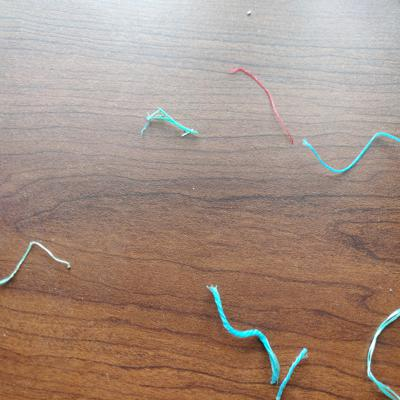thread: (205, 278, 280, 387), (224, 64, 297, 153), (301, 129, 400, 176), (1, 239, 74, 290), (137, 103, 207, 149), (367, 306, 400, 400), (274, 342, 312, 400)
